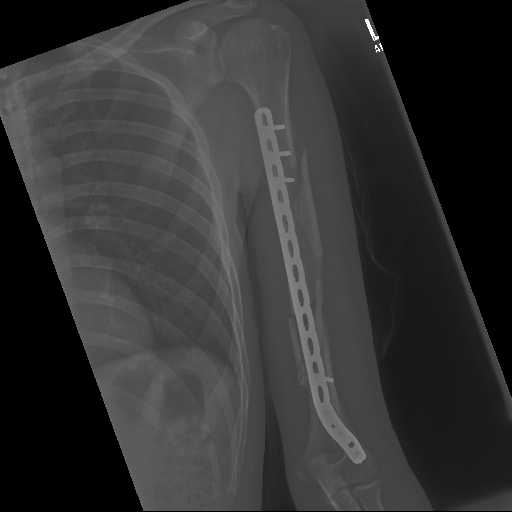implant: (291, 356, 367, 467), (274, 212, 318, 340), (249, 105, 301, 189)
